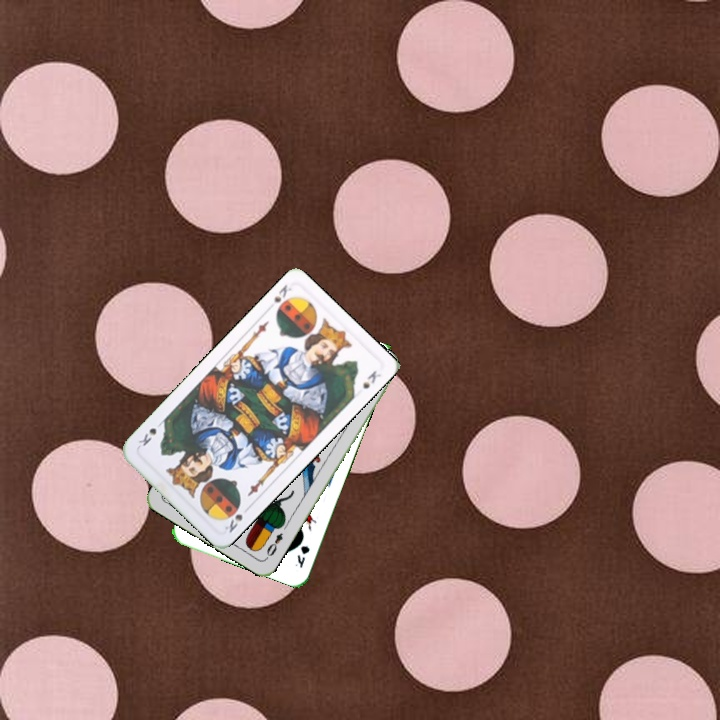EO: (262, 529, 285, 562)
GK: (291, 540, 312, 571)
SK: (269, 280, 295, 316), (220, 510, 245, 535)
